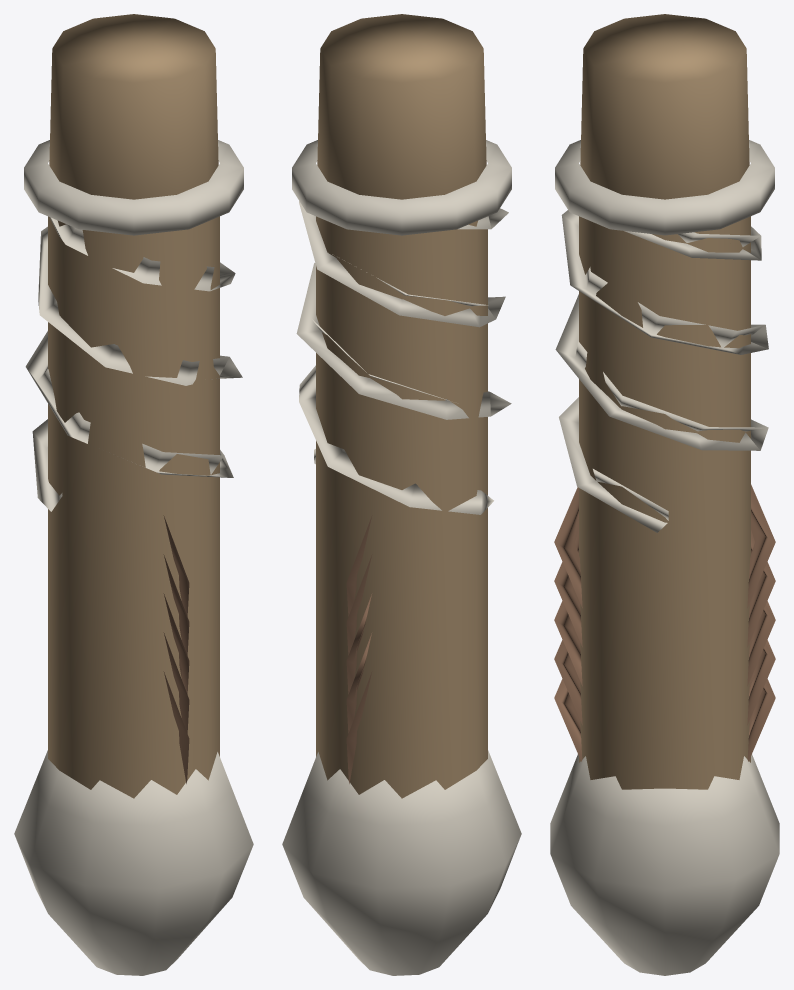
File: handle_rare.glb
3 renders of one model, left to right at view 1: azimuth 30°, elevation 25°; view 2: azimuth 150°, elevation 25°; view 3: azimuth 270°, elevation 25°, orthographic.
Visible parts, largest first — view 1: handle_rare; view 2: handle_rare; view 3: handle_rare.
Boxes of the visible parts, x1,y1,x2,y2 form: handle_rare: (14, 14, 253, 975); handle_rare: (282, 14, 521, 975); handle_rare: (550, 14, 779, 975).
Size of the model in its own units: 0.1008 by 0.42 by 0.0959.
